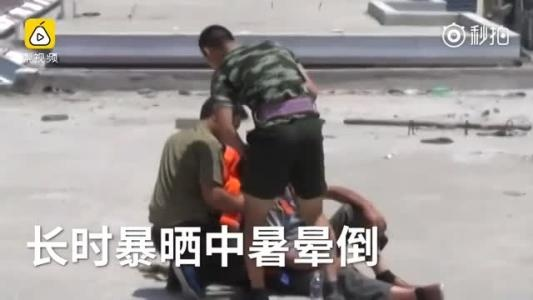falling: (236, 165, 462, 299)
